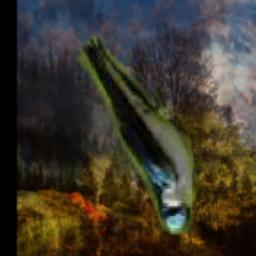Swallow: (78, 33, 197, 235)
